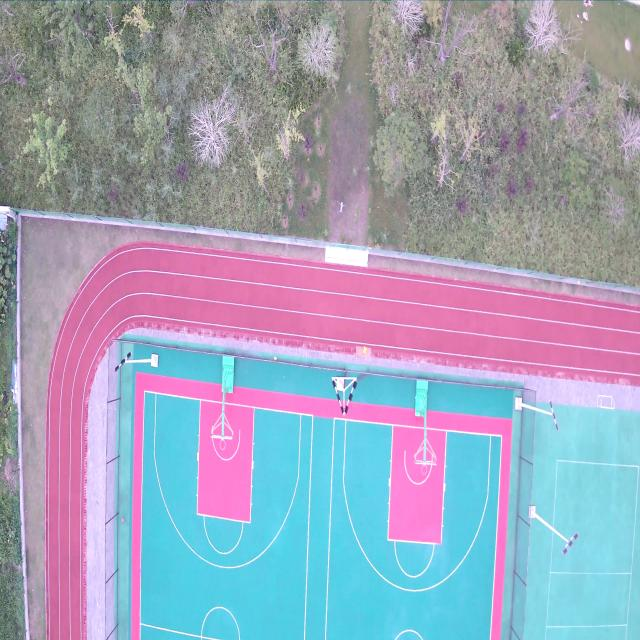UAV: (336, 200, 347, 216)
